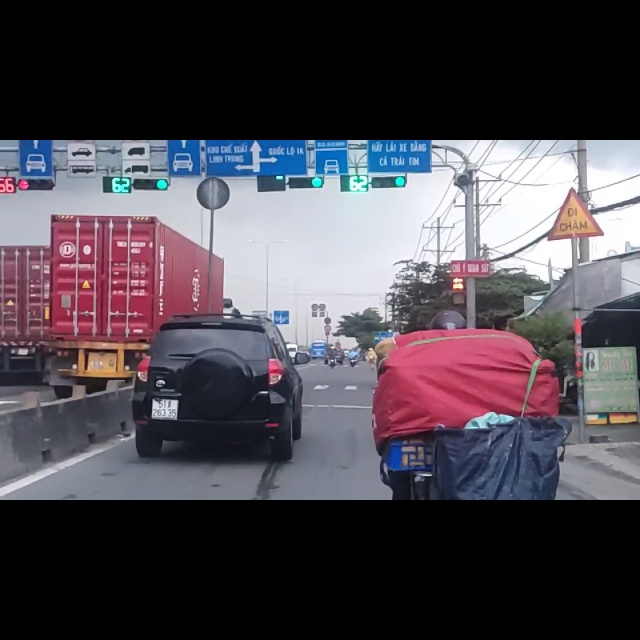bien_nguy_hiem: (546, 85, 604, 178)
